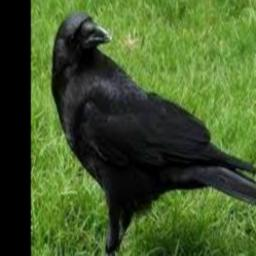Crow: (50, 13, 256, 256)
